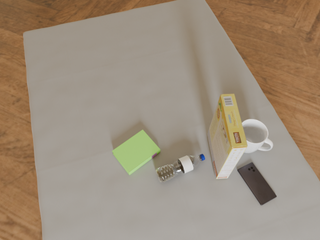book: (112, 130, 160, 175)
bottle: (156, 154, 205, 183)
box: (208, 94, 247, 179)
cup: (242, 119, 273, 153)
phone: (238, 162, 277, 205)
